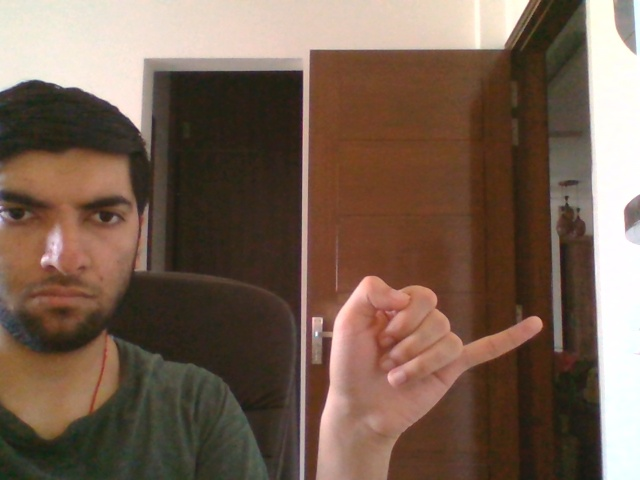LetterJ: (323, 274, 544, 443)
